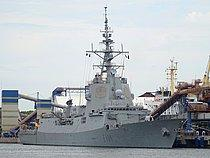MIL_Ship: (16, 72, 186, 149)
